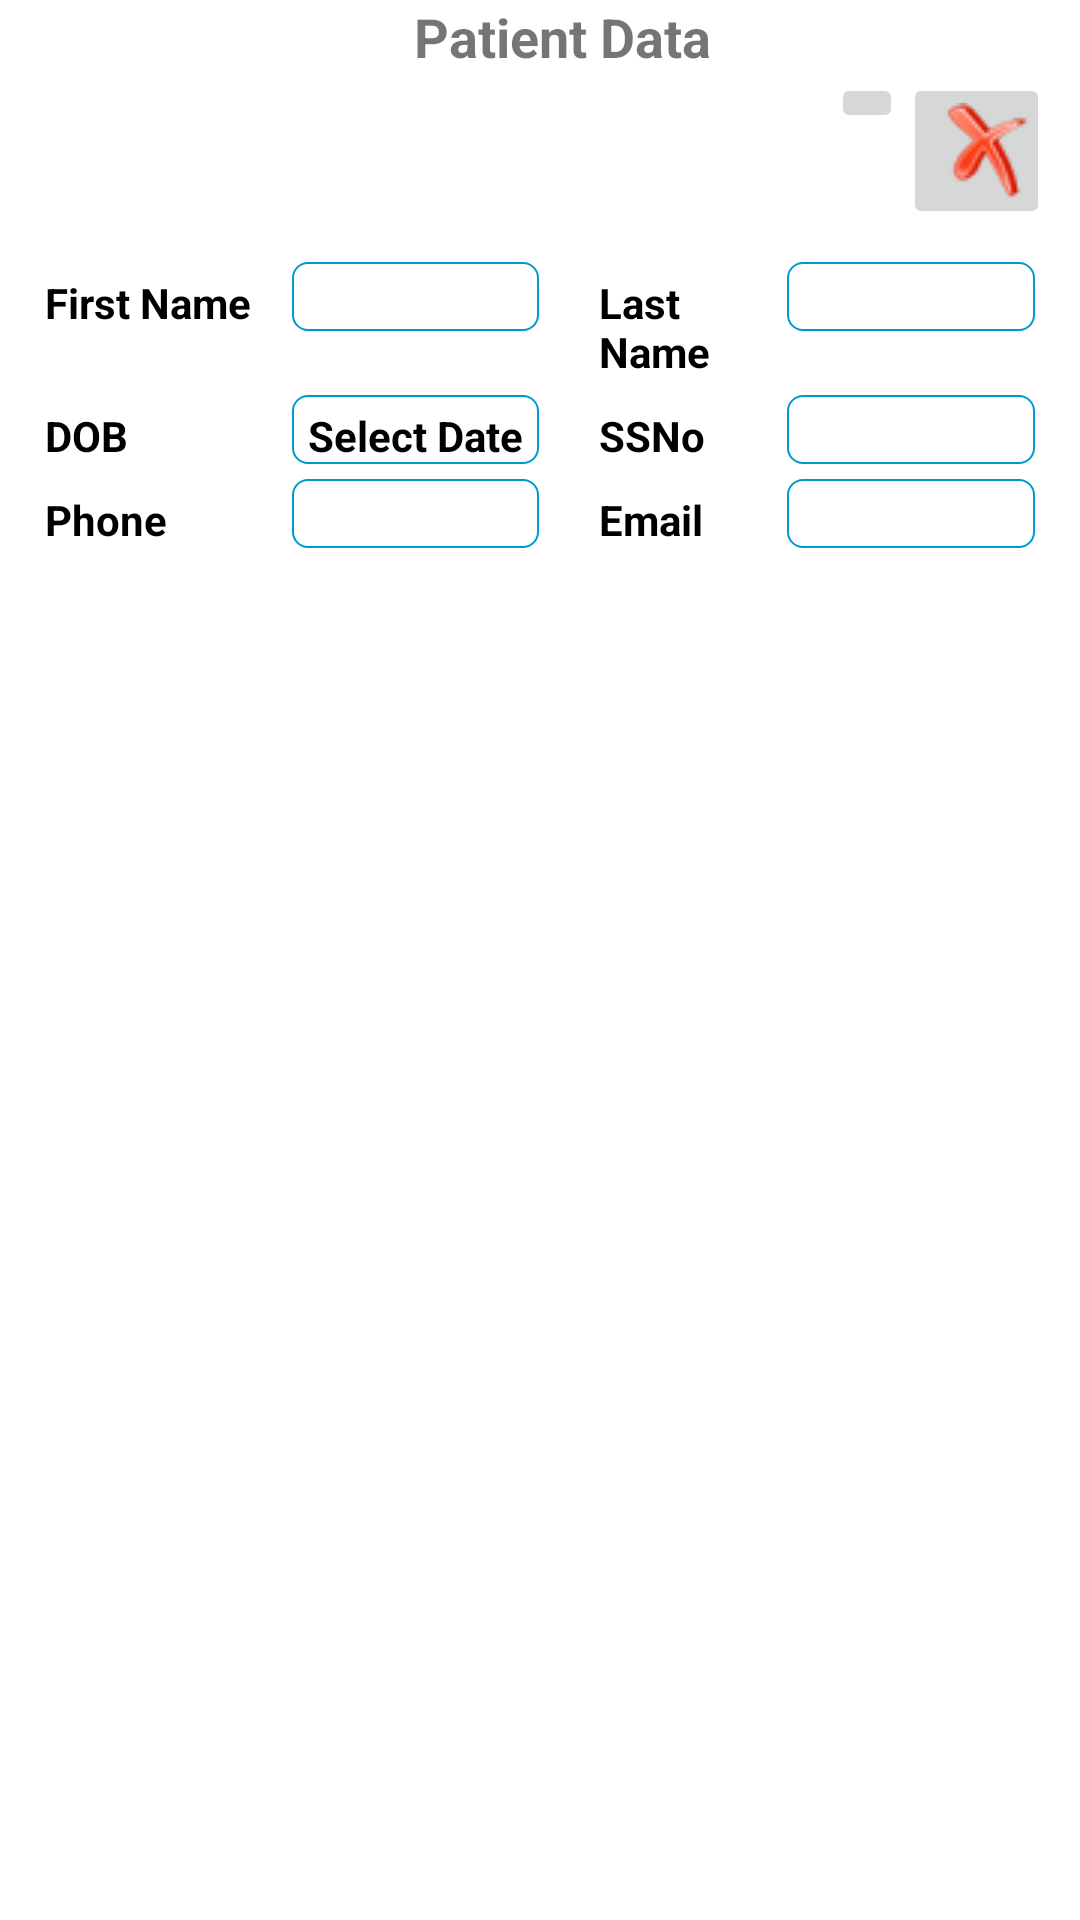

Icon bounding boxes for this 1080 × 1920 phone screenshot, format (x1, y1, x2, y2):
erase: (915, 91, 1038, 211)
